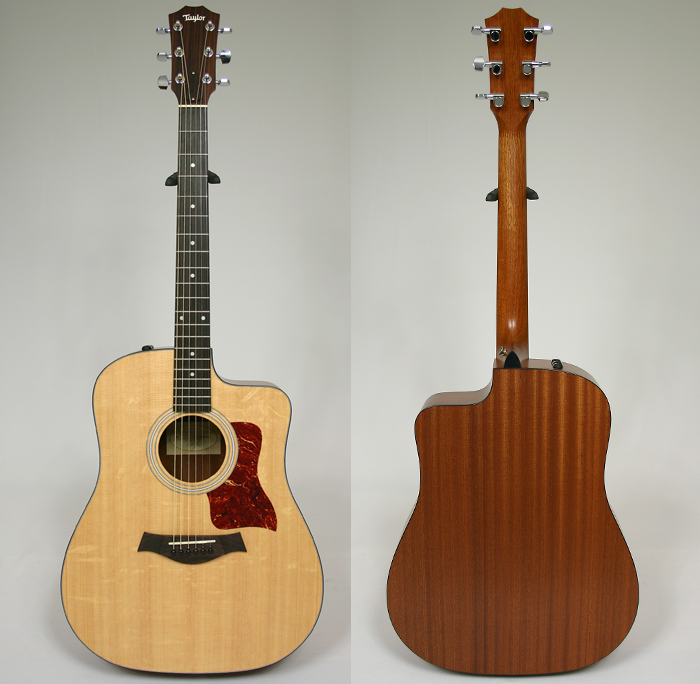guitar: (54, 6, 327, 676), (379, 6, 641, 679)
